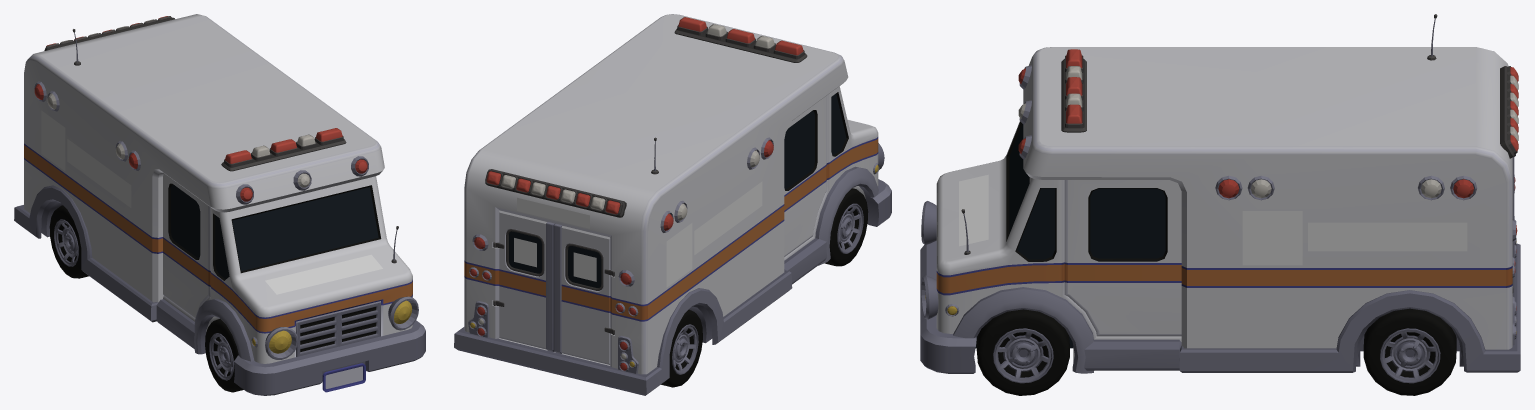
The model's file is AmbulanceFBX.fbx.
3 renders of one model, left to right at view 1: azimuth 30°, elevation 25°; view 2: azimuth 150°, elevation 25°; view 3: azimuth 270°, elevation 25°, orthographic. The views are drawn at different scales.
Visible parts, largest first — view 1: ambulanceBody, wheel3, wheel2; view 2: ambulanceBody, doorRight, doorLeft, wheel3, wheel2; view 3: ambulanceBody, wheel1, wheel4.
Boxes of the visible parts, x1=… form: ambulanceBody: x1=14, y1=14, x2=425, y2=395; wheel3: x1=205, y1=319, x2=243, y2=392; wheel2: x1=49, y1=205, x2=88, y2=278; ambulanceBody: x1=454, y1=14, x2=891, y2=395; doorRight: x1=553, y1=223, x2=614, y2=364; doorLeft: x1=493, y1=210, x2=554, y2=351; wheel3: x1=824, y1=188, x2=868, y2=266; wheel2: x1=661, y1=309, x2=702, y2=387; ambulanceBody: x1=920, y1=14, x2=1520, y2=373; wheel1: x1=1363, y1=308, x2=1456, y2=395; wheel4: x1=976, y1=309, x2=1069, y2=395.
Bounding box in the file's own units: 292 × 359 × 662.
